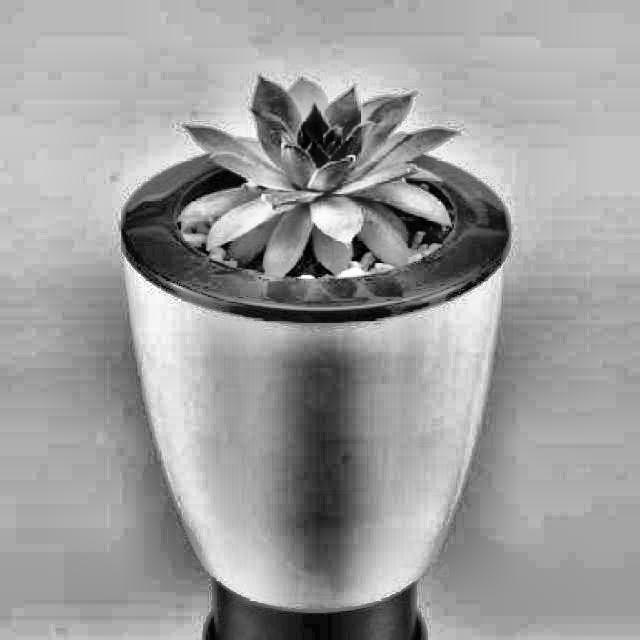plants: (123, 76, 504, 593)
